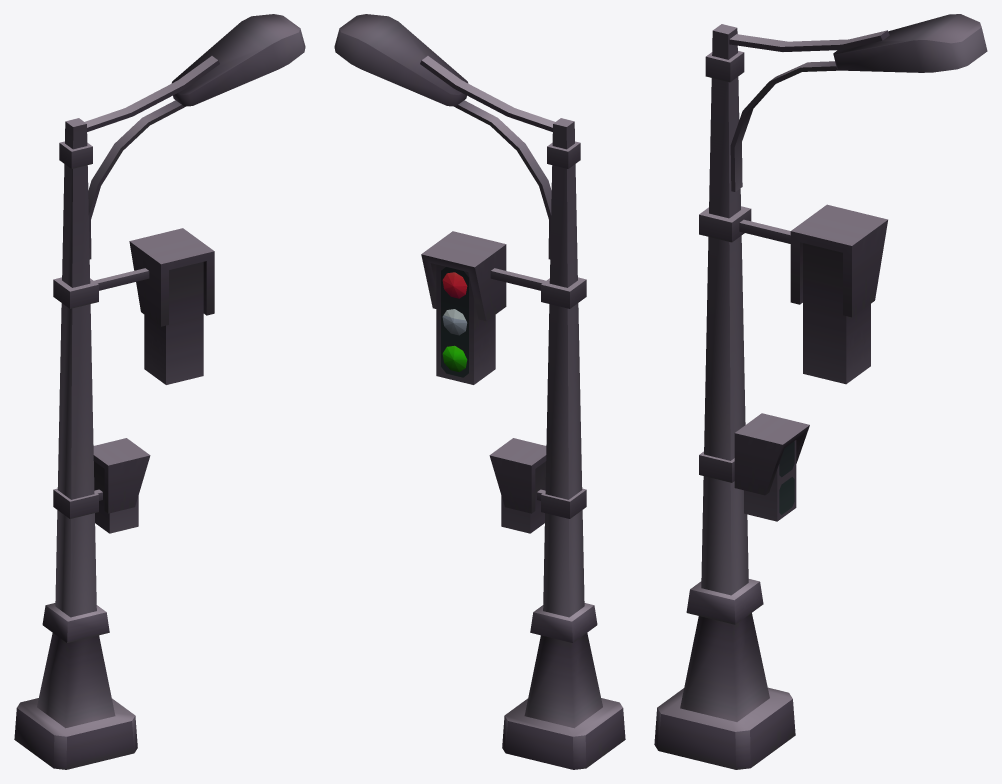
The model's file is Streetlight_3A.fbx.
The picture shows the model from 3 angles, left to right: view 1: azimuth 30°, elevation 25°; view 2: azimuth 150°, elevation 25°; view 3: azimuth 330°, elevation 25°; orthographic projection. The views are drawn at different scales.
Parts seen in each view (by area): view 1: Streetlight_3A; view 2: Streetlight_3A; view 3: Streetlight_3A.
Part boxes in pixels (<box>): Streetlight_3A: <box>14,14,305,769</box>; Streetlight_3A: <box>334,14,625,769</box>; Streetlight_3A: <box>654,14,987,769</box>.
Size of the model in its own units: 104 by 253 by 33.24.
